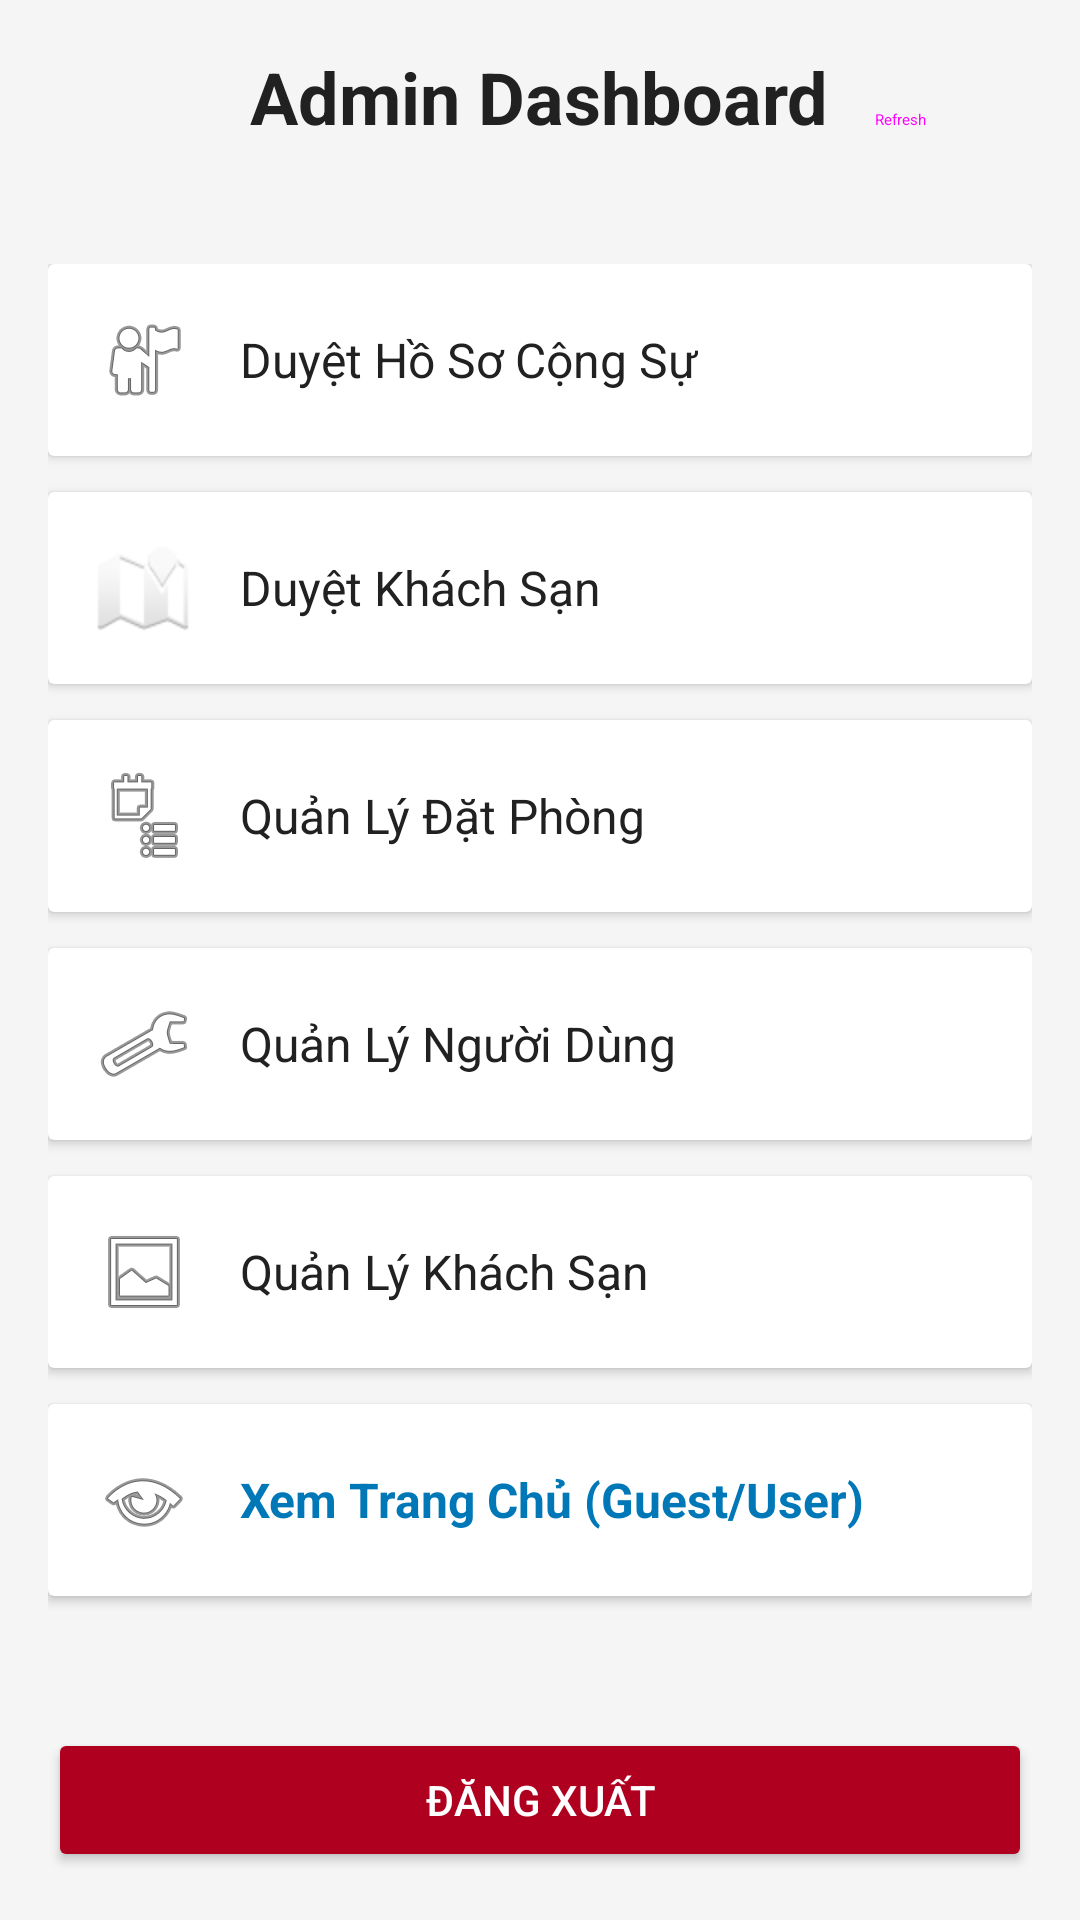

Screen size 1080*1920. Icon name, then its center in pixels as point (x, y):
agenda: point (144, 815)
gallery: point (144, 1272)
manage: point (144, 1044)
map: point (143, 593)
myplaces: point (145, 360)
view: point (144, 1502)
